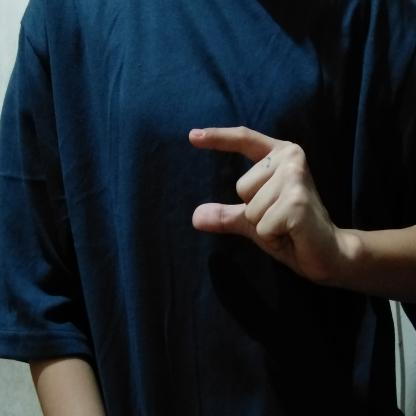small: (184, 116, 354, 296)
